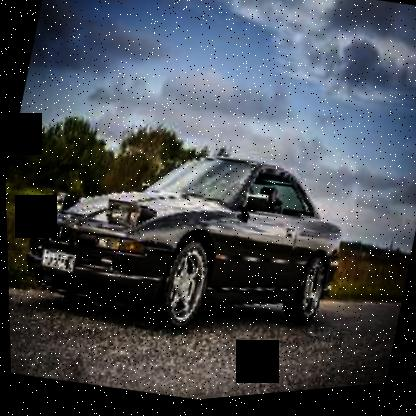not_emergency: (6, 102, 374, 368)
